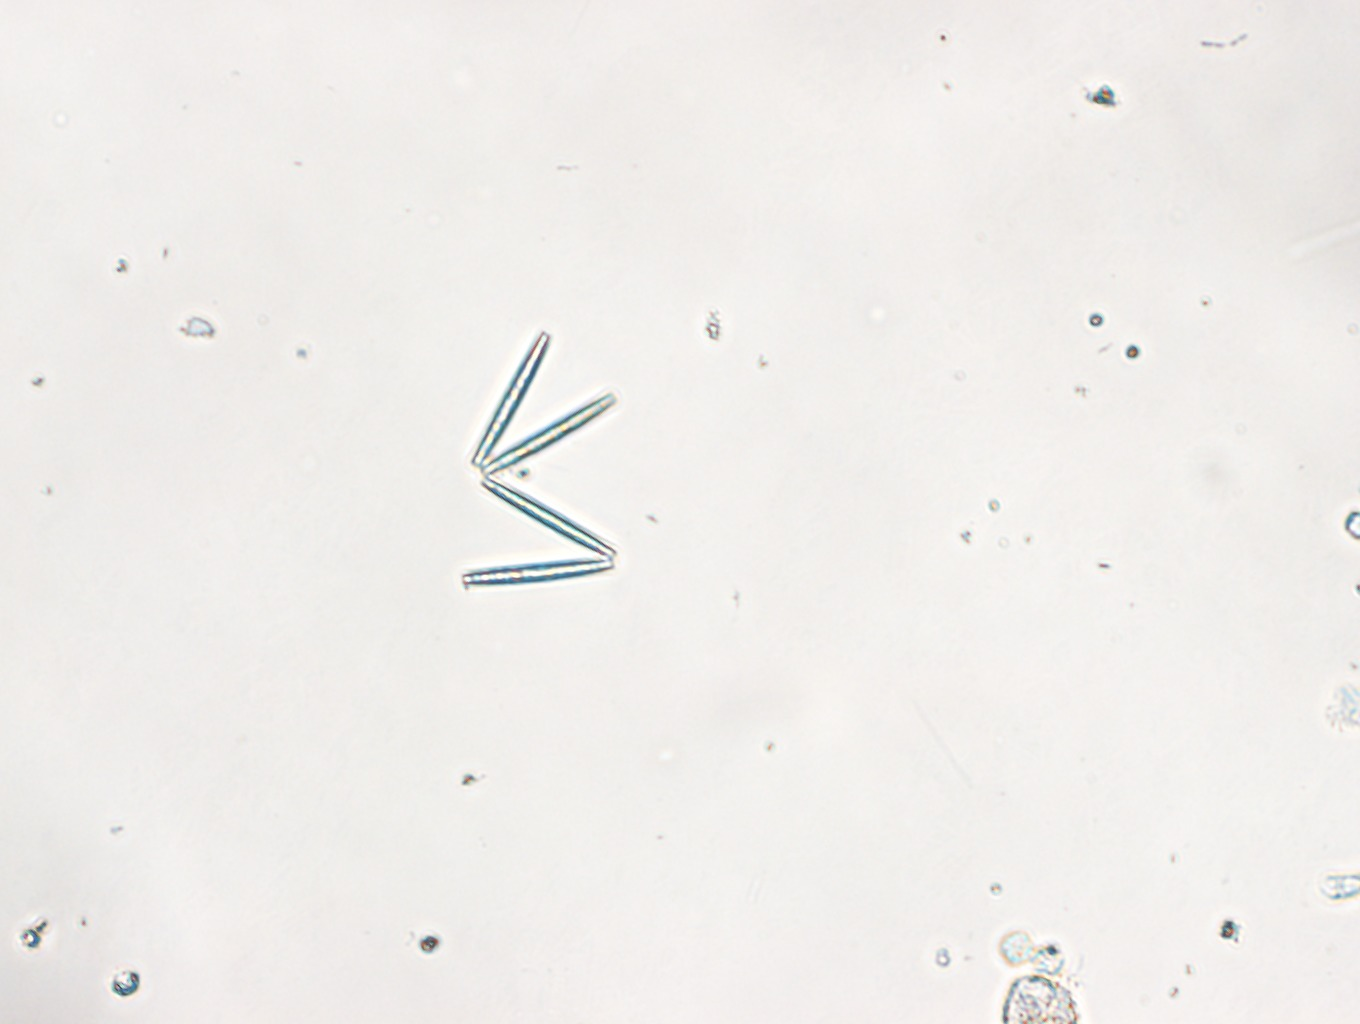thalassionema nitzschioides: (462, 329, 619, 591)
